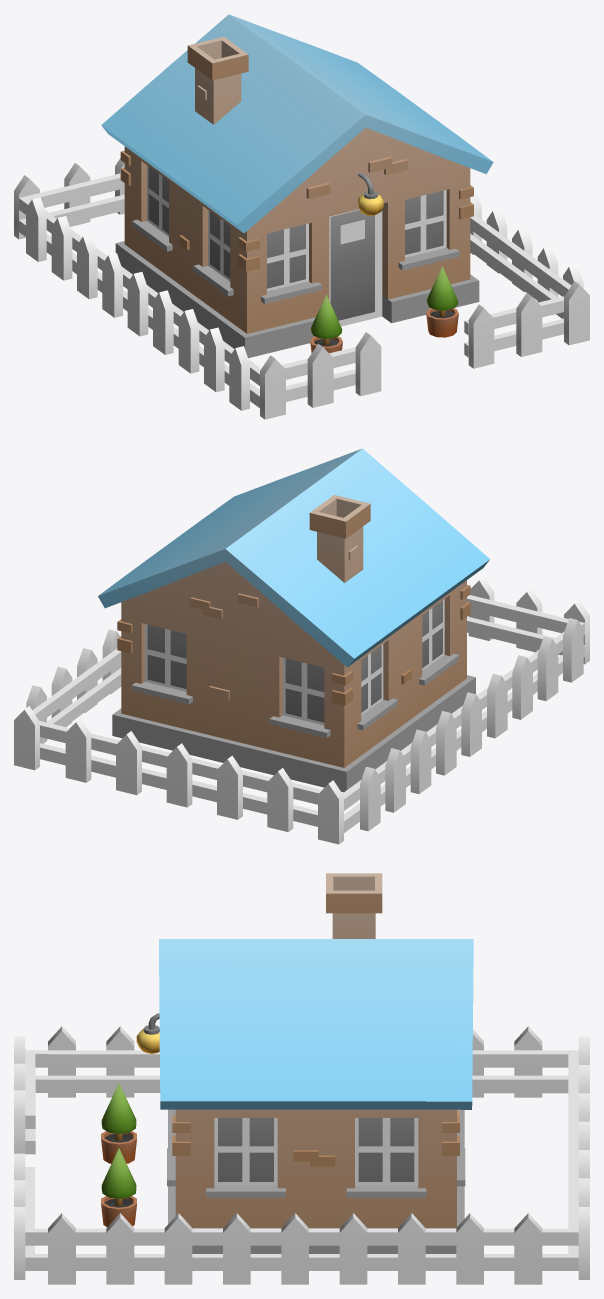
File: building-model-12.glb
3 views of the same model, one above another, from view 1: azimuth 30°, elevation 25°; view 2: azimuth 150°, elevation 25°; view 3: azimuth 270°, elevation 25° (orthographic). The views are drawn at different scales.
Parts seen in each view (by area): view 1: building-model-12, house_small_1_fence, house_small_1_potted_tree_2, house_small_1_potted_tree_1; view 2: building-model-12, house_small_1_fence; view 3: building-model-12, house_small_1_fence, house_small_1_potted_tree_1, house_small_1_potted_tree_2.
Part boxes in pixels (x1,y1,x2,y2): building-model-12: (101,14,493,358); house_small_1_fence: (14,158,589,419); house_small_1_potted_tree_2: (426,266,458,337); house_small_1_potted_tree_1: (310,294,342,353); building-model-12: (98,448,489,792); house_small_1_fence: (14,577,589,844); building-model-12: (136,873,473,1253); house_small_1_fence: (14,1026,589,1284); house_small_1_potted_tree_1: (101,1083,136,1163); house_small_1_potted_tree_2: (101,1148,136,1226).
Size of the model in its own units: 7.19 by 4.75 by 9.14.
1 material, 1 textured.
